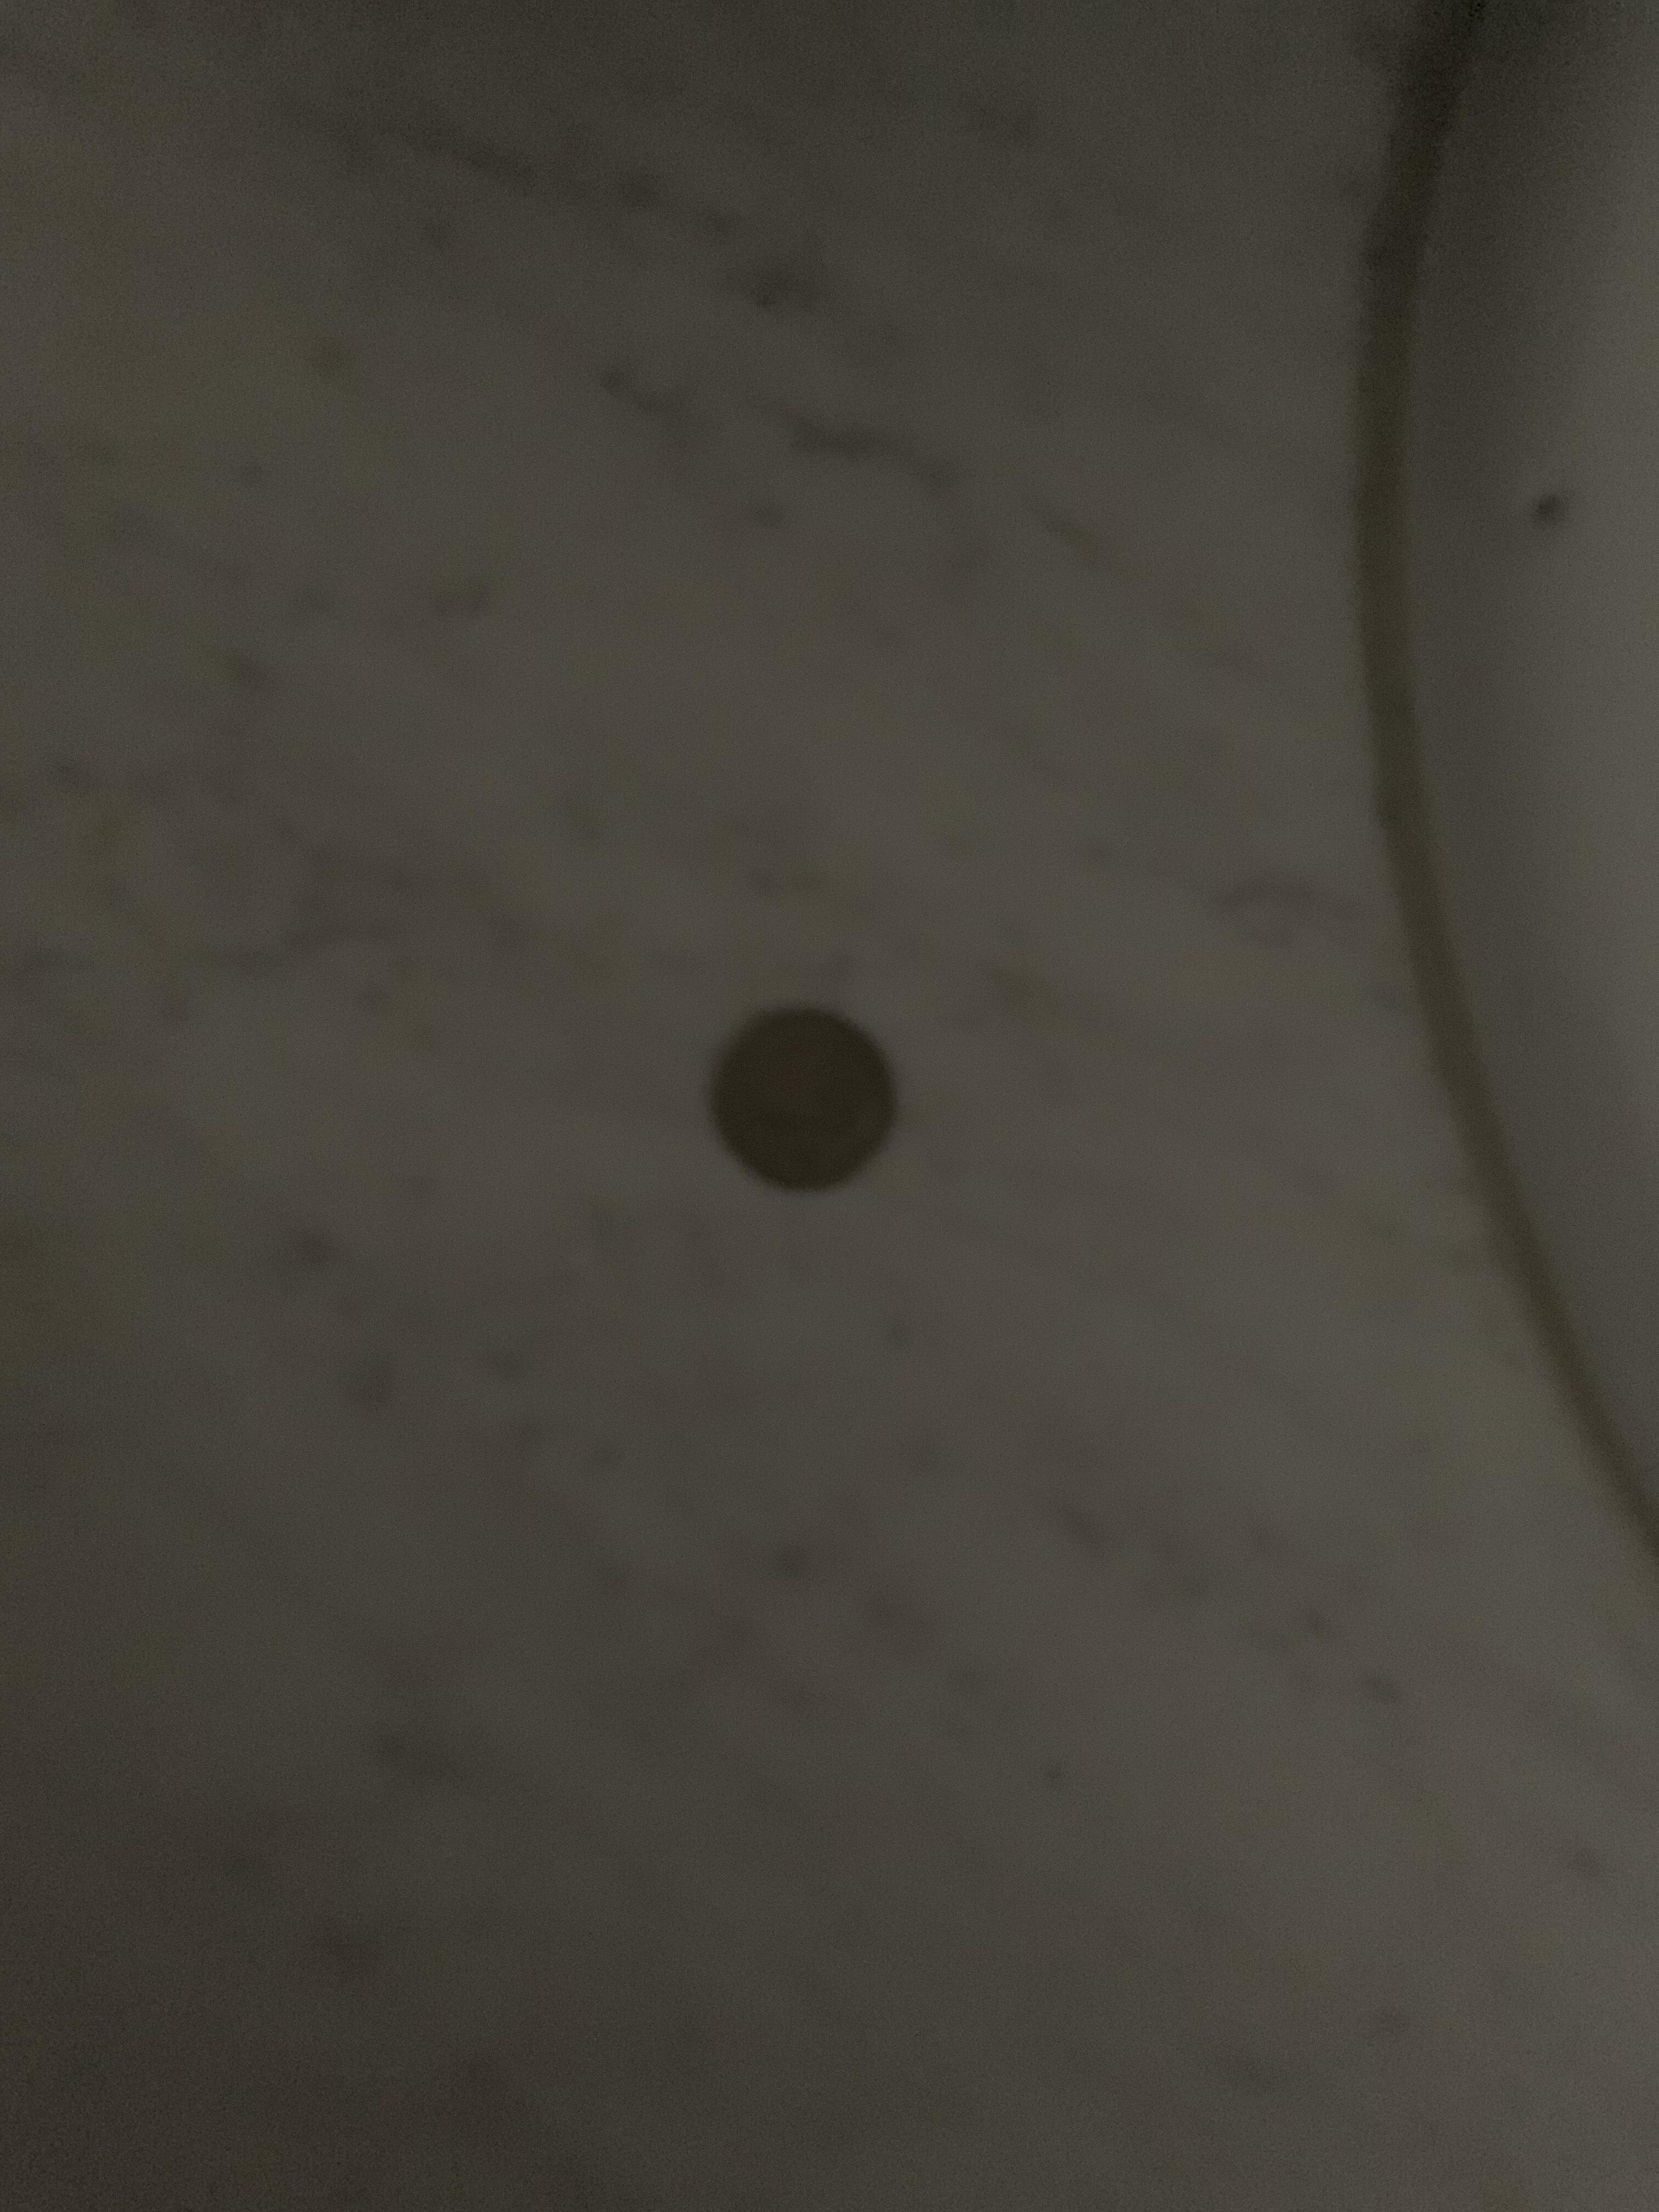Dime: (681, 961, 929, 1217)
